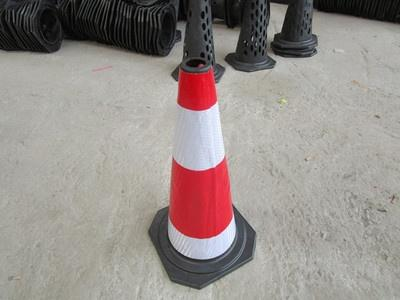cone_barrel: (141, 57, 250, 285)
